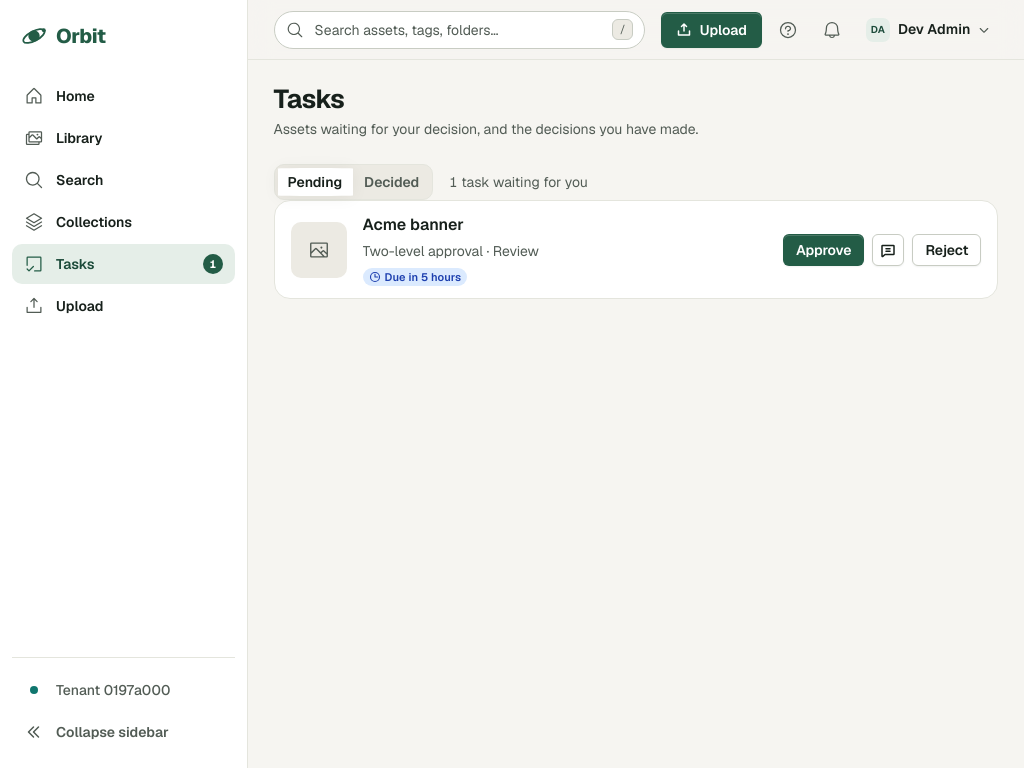
Tasks inbox - deciding › approves with one click, sends no comment, toasts, and refreshes the list and the nav count
This screenshot has width=1024, height=768.
Step 1. Click the button "Approve" → coordinates (824, 250), box [783,234,864,266]
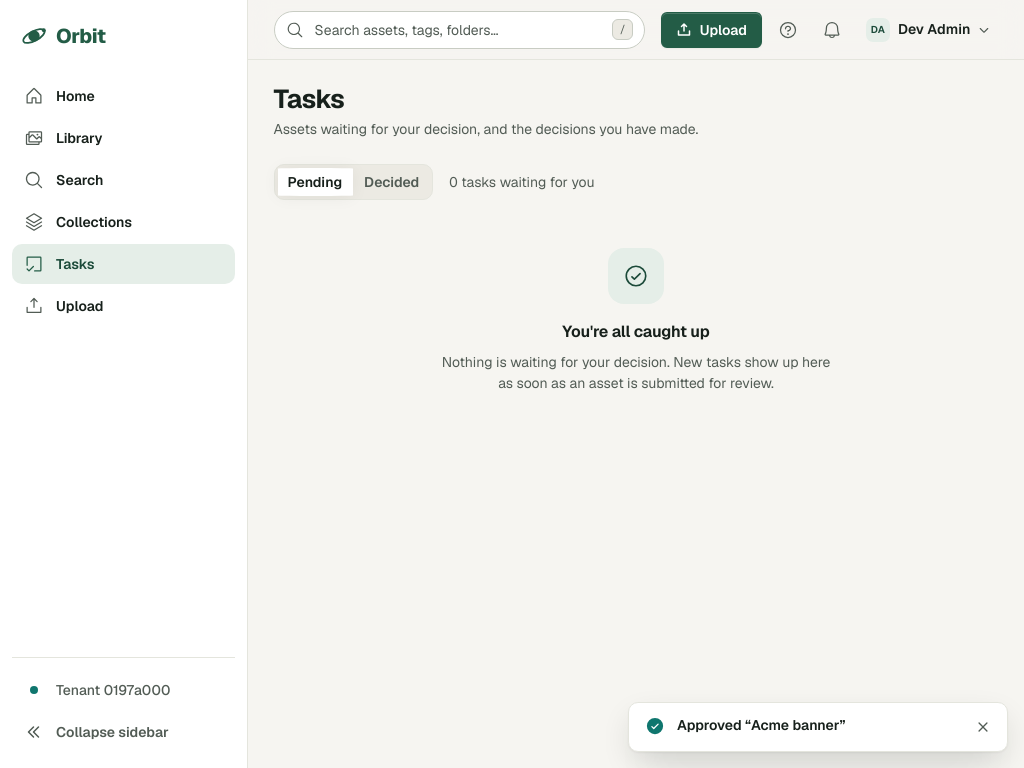
Check: the link named "Tasks, 1 pending" is shown, box [12,244,235,284]
Check: the text "Approved “Acme banner”" is shown, box [677,716,846,734]
Check: the heading "You're all caught up" is shown, box [562,320,710,344]
